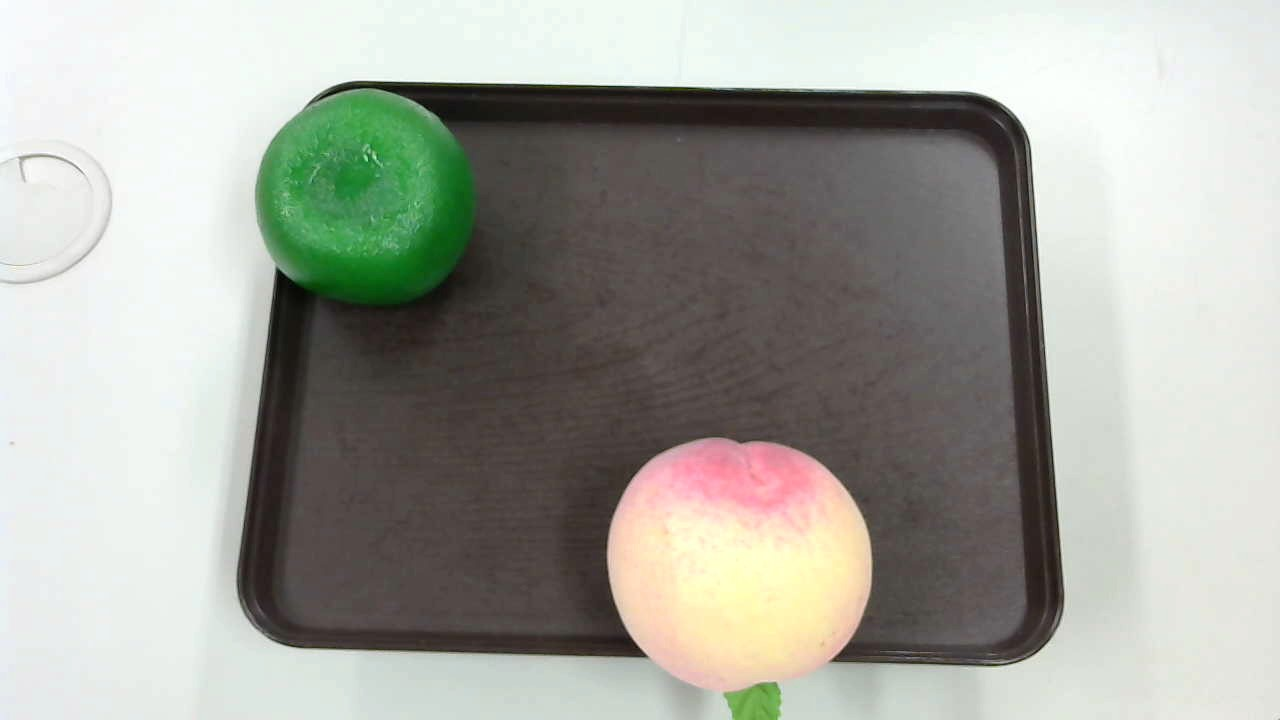green orange: (254, 86, 482, 305)
peach: (600, 428, 888, 720)
